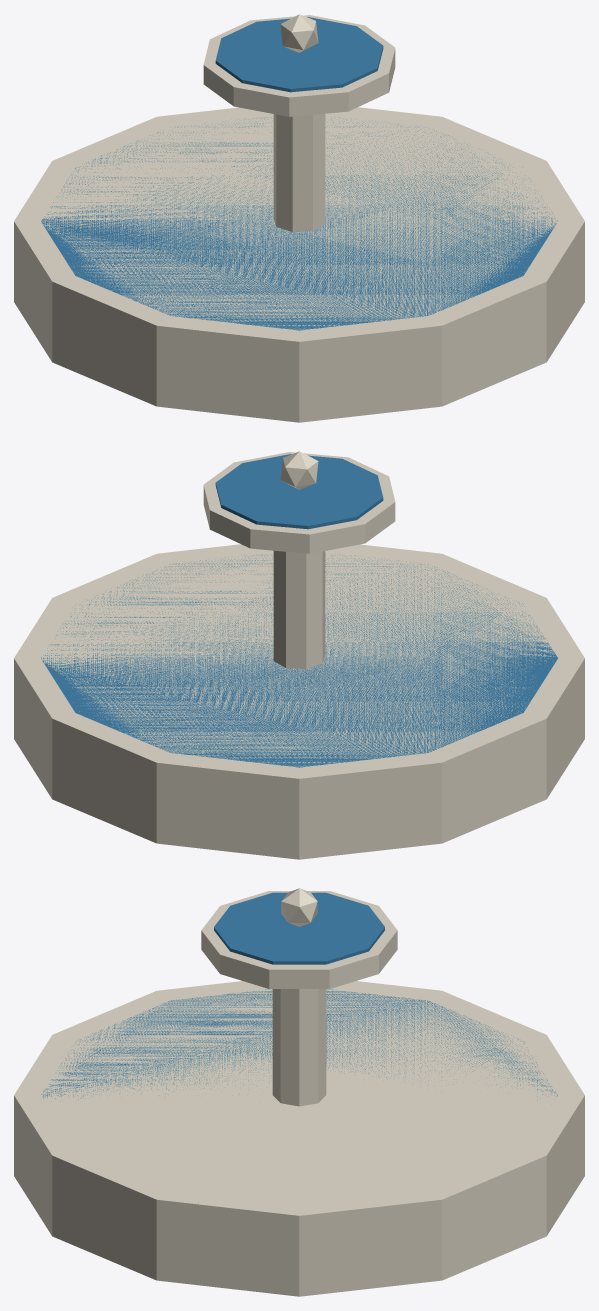
The model's file is prop.fountain.glb.
3 renders of one model, top to bottom at view 1: azimuth 30°, elevation 25°; view 2: azimuth 150°, elevation 25°; view 3: azimuth 270°, elevation 25°, orthographic.
Parts seen in each view (by area): view 1: prop.fountain; view 2: prop.fountain; view 3: prop.fountain.
Boxes of the visible parts, box(x1,y1,x2,y2) form: prop.fountain: box(14, 14, 584, 422); prop.fountain: box(14, 451, 584, 859); prop.fountain: box(14, 888, 584, 1296).
Size of the model in its own units: 3.2 by 1.78 by 3.2.
